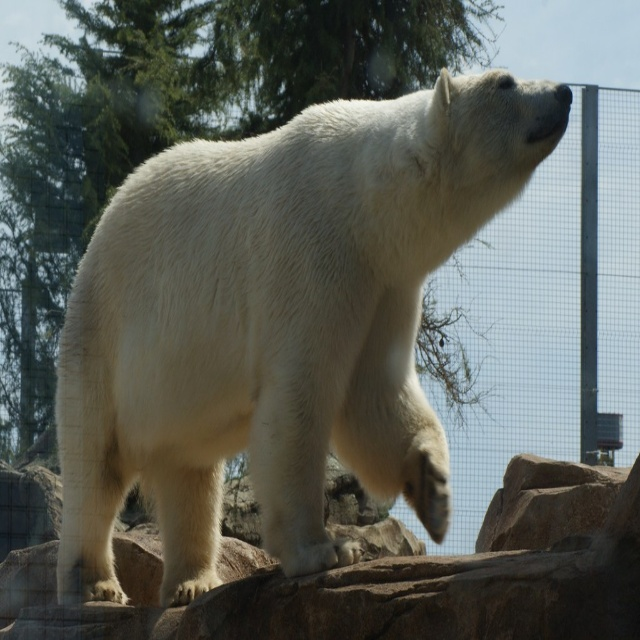Polar bear: (56, 62, 573, 606)
